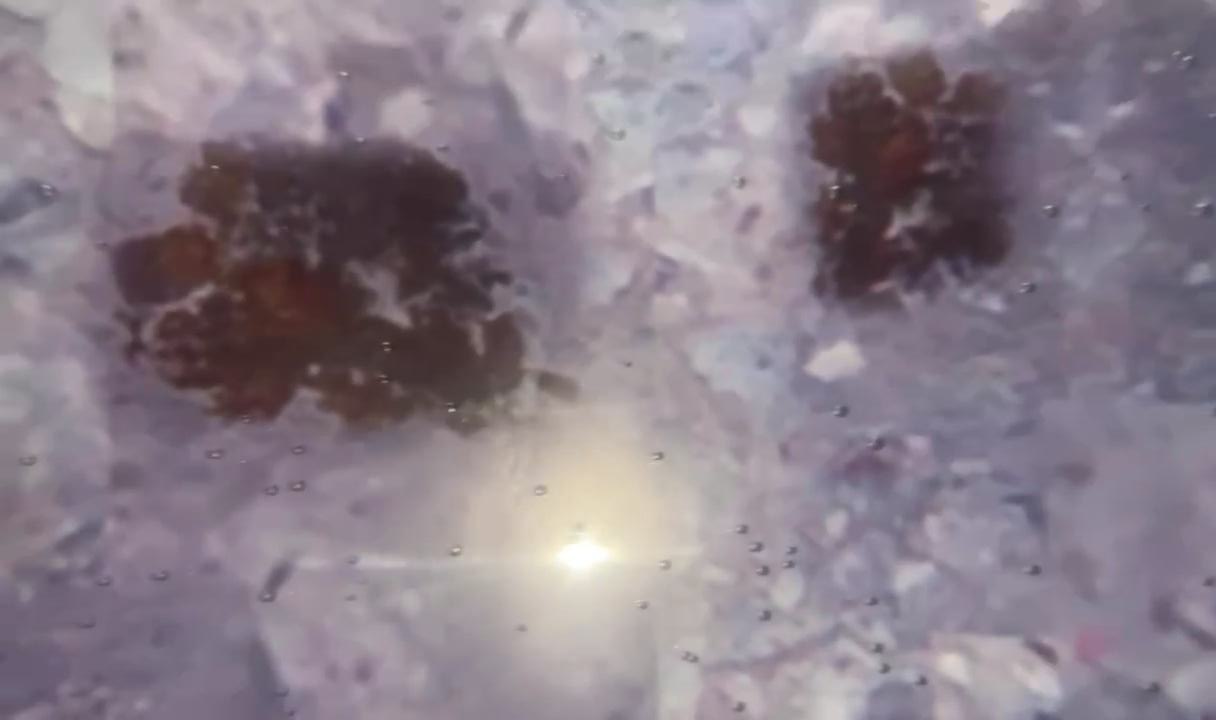Corrosion: (96, 128, 583, 442), (809, 44, 1018, 313)
